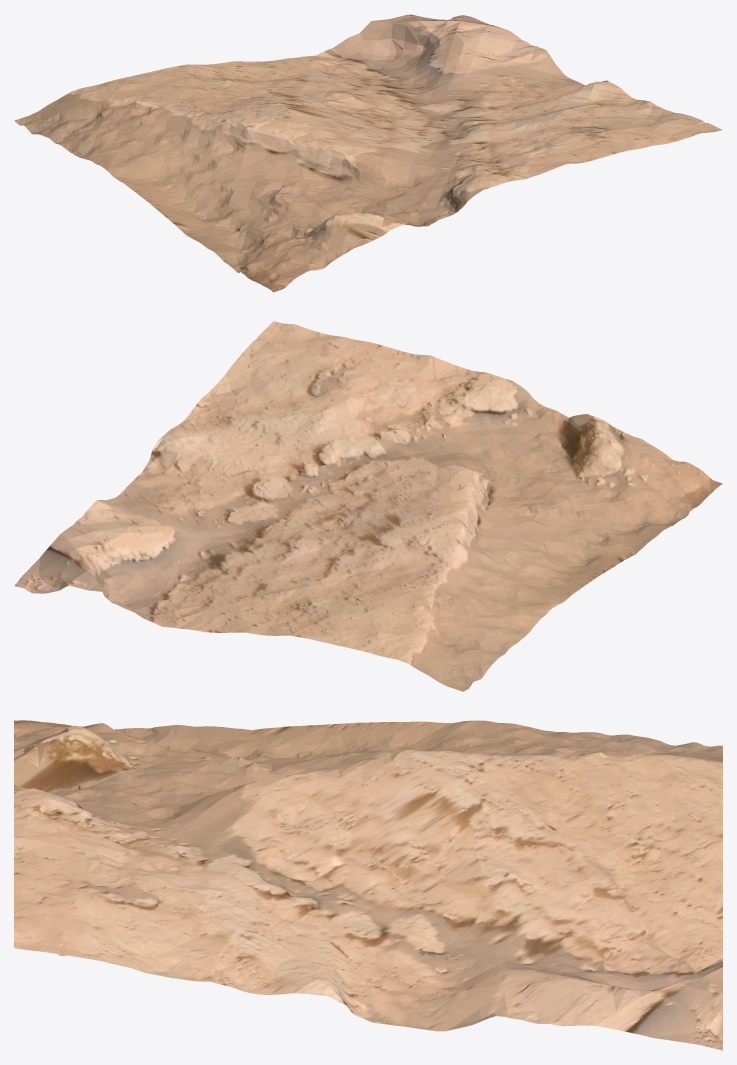
3 views of the same model, one above another, from view 1: azimuth 30°, elevation 25°; view 2: azimuth 150°, elevation 25°; view 3: azimuth 270°, elevation 25° (orthographic). The views are drawn at different scales.
Size of the model in its own units: 1.04 by 0.195 by 1.04.
2 materials, 2 textured.
